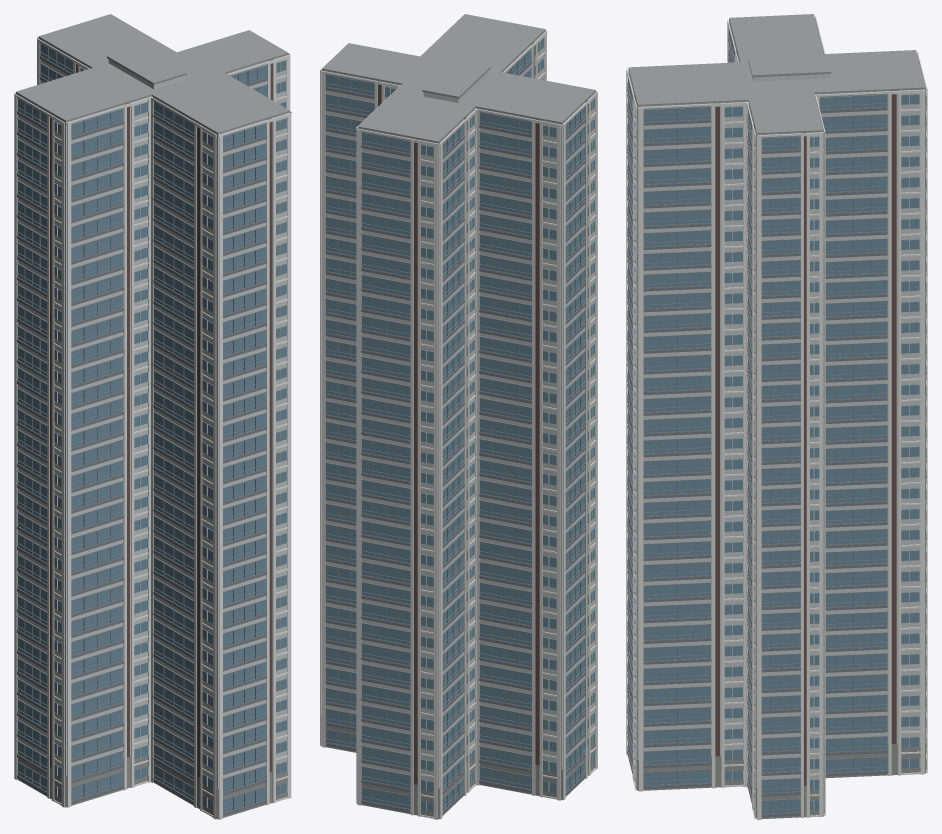
File: bespoke-acro-riverview-102.glb
3 renders of one model, left to right at view 1: azimuth 30°, elevation 25°; view 2: azimuth 150°, elevation 25°; view 3: azimuth 270°, elevation 25°, orthographic.
Visible parts, largest first — view 1: ARV102_editable_ARV102_blue_grey_horizontal_glazing, ARV102_editable_ARV102_broad_white_facade_frames, ARV102_editable_ARV102_dark_horizontal_spandrels_and_mullion, ARV102_editable_ARV102_light_grey_solid_wall, ARV102_editable_ARV102_modest_grey_flat_roof_caps, ARV102_editable_ARV102_recessed_brown_vertical_seams, ARV102_editable_ARV102_muted_ground_wall; view 2: ARV102_editable_ARV102_blue_grey_horizontal_glazing, ARV102_editable_ARV102_dark_horizontal_spandrels_and_mullion, ARV102_editable_ARV102_broad_white_facade_frames, ARV102_editable_ARV102_light_grey_solid_wall, ARV102_editable_ARV102_modest_grey_flat_roof_caps, ARV102_editable_ARV102_recessed_brown_vertical_seams, ARV102_editable_ARV102_muted_ground_wall; view 3: ARV102_editable_ARV102_blue_grey_horizontal_glazing, ARV102_editable_ARV102_dark_horizontal_spandrels_and_mullion, ARV102_editable_ARV102_broad_white_facade_frames, ARV102_editable_ARV102_light_grey_solid_wall, ARV102_editable_ARV102_modest_grey_flat_roof_caps, ARV102_editable_ARV102_recessed_brown_vertical_seams, ARV102_editable_ARV102_muted_ground_wall.
Boxes of the visible parts, x1,y1,x2,y2 form: ARV102_editable_ARV102_blue_grey_horizontal_glazing: (17, 43, 286, 812); ARV102_editable_ARV102_broad_white_facade_frames: (14, 37, 291, 819); ARV102_editable_ARV102_dark_horizontal_spandrels_and_mullion: (17, 42, 267, 816); ARV102_editable_ARV102_light_grey_solid_wall: (16, 38, 289, 787); ARV102_editable_ARV102_modest_grey_flat_roof_caps: (16, 14, 289, 134); ARV102_editable_ARV102_recessed_brown_vertical_seams: (50, 59, 272, 777); ARV102_editable_ARV102_muted_ground_wall: (17, 751, 287, 819); ARV102_editable_ARV102_blue_grey_horizontal_glazing: (325, 37, 594, 811); ARV102_editable_ARV102_dark_horizontal_spandrels_and_mullion: (325, 48, 586, 814); ARV102_editable_ARV102_broad_white_facade_frames: (320, 15, 597, 819); ARV102_editable_ARV102_light_grey_solid_wall: (322, 31, 595, 788); ARV102_editable_ARV102_modest_grey_flat_roof_caps: (322, 14, 595, 143); ARV102_editable_ARV102_recessed_brown_vertical_seams: (378, 42, 587, 784); ARV102_editable_ARV102_muted_ground_wall: (321, 715, 595, 819); ARV102_editable_ARV102_blue_grey_horizontal_glazing: (628, 24, 925, 813); ARV102_editable_ARV102_dark_horizontal_spandrels_and_mullion: (627, 25, 926, 817); ARV102_editable_ARV102_broad_white_facade_frames: (626, 15, 927, 819); ARV102_editable_ARV102_light_grey_solid_wall: (628, 20, 925, 787); ARV102_editable_ARV102_modest_grey_flat_roof_caps: (628, 14, 925, 134); ARV102_editable_ARV102_recessed_brown_vertical_seams: (634, 26, 919, 785); ARV102_editable_ARV102_muted_ground_wall: (634, 740, 925, 818).
Size of the model in its own units: 37.19 by 99.35 by 39.13.
